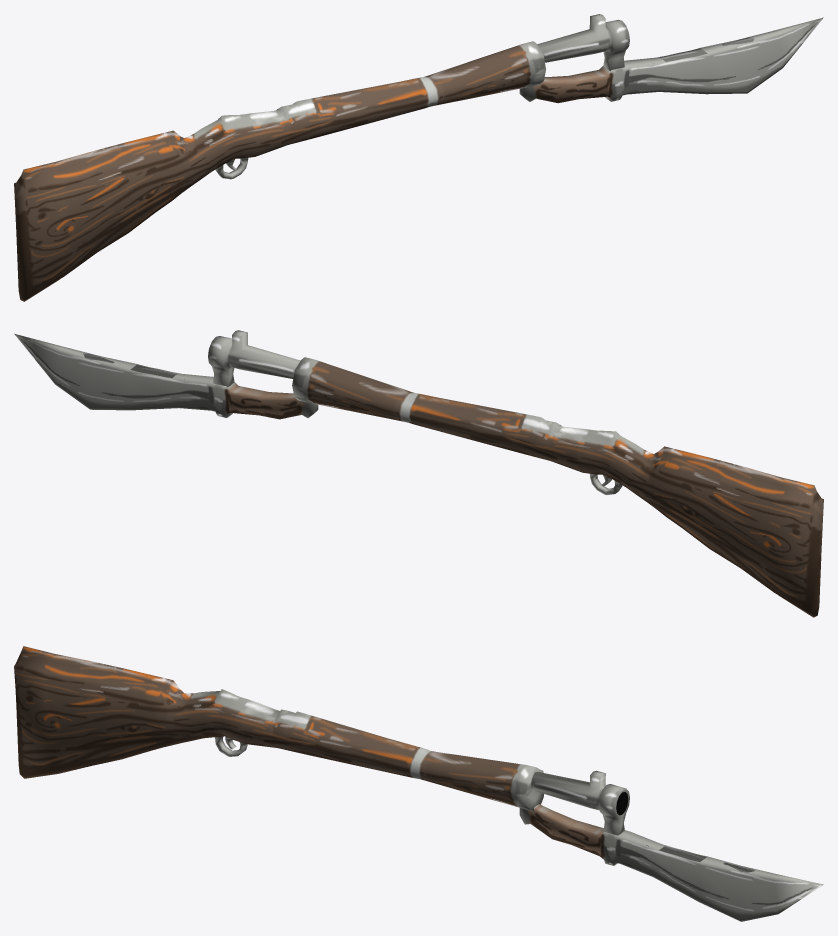
Rendered from Bayoneta.fbx.
The picture shows the model from 3 angles, top to bottom: view 1: azimuth 30°, elevation 25°; view 2: azimuth 150°, elevation 25°; view 3: azimuth 330°, elevation 25°; orthographic projection.
Visible parts, largest first — view 1: Bayoneta; view 2: Bayoneta; view 3: Bayoneta.
Boxes of the visible parts, x1=… form: Bayoneta: x1=14, y1=14, x2=823, y2=301; Bayoneta: x1=14, y1=330, x2=823, y2=617; Bayoneta: x1=14, y1=646, x2=823, y2=921.
Size of the model in its own units: 5.49 by 0.9471 by 0.2382.
1 material, 1 textured.
